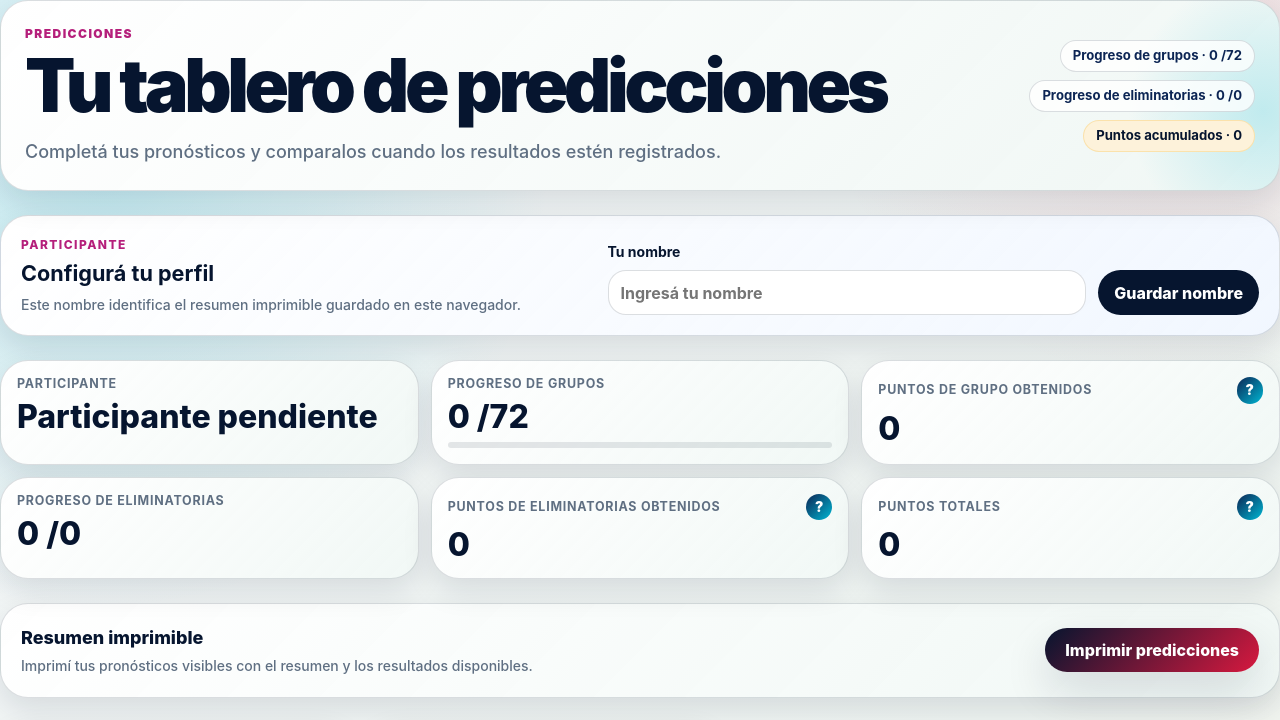
Scenario: PredictionFixture › captures and saves the user name in localStorage
The width and height of the screenshot is (1280, 720).
Type "  Yorch  " into the field labelled "Tu nombre" at (847, 293), box left=608, top=270, right=1086, bottom=315
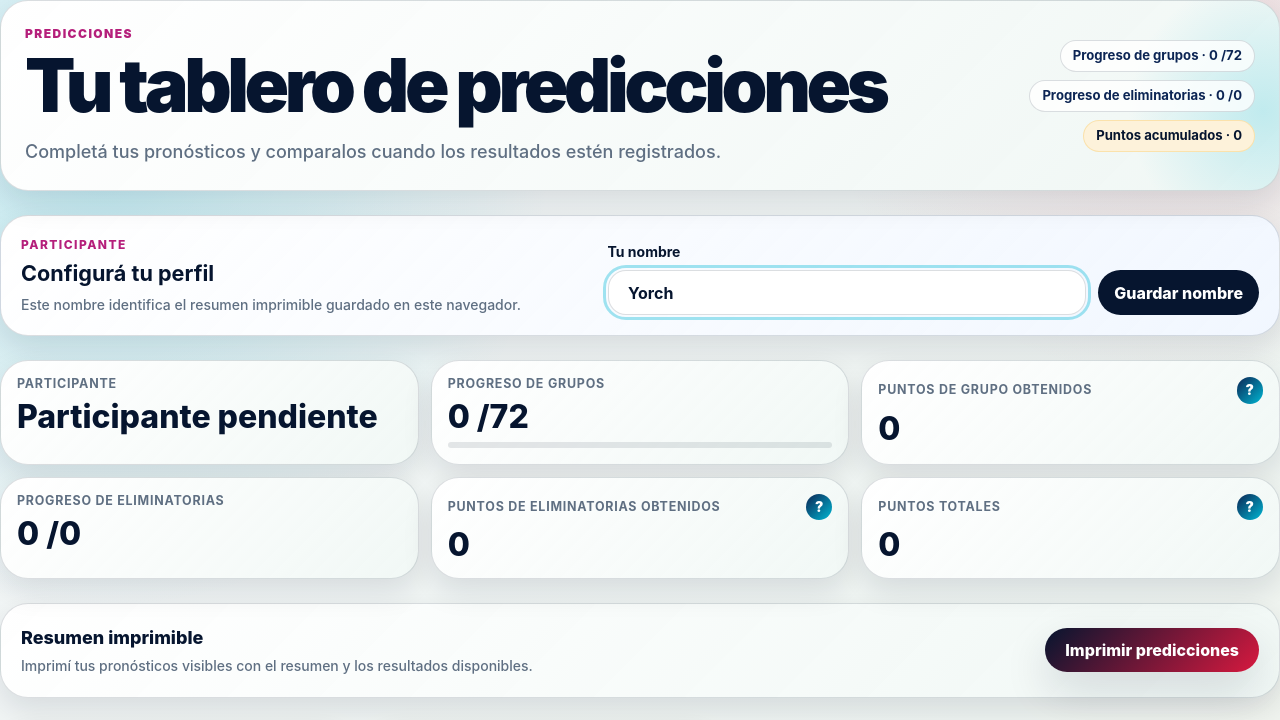
Click the button "Guardar nombre" at (1179, 293), box left=1098, top=270, right=1259, bottom=315
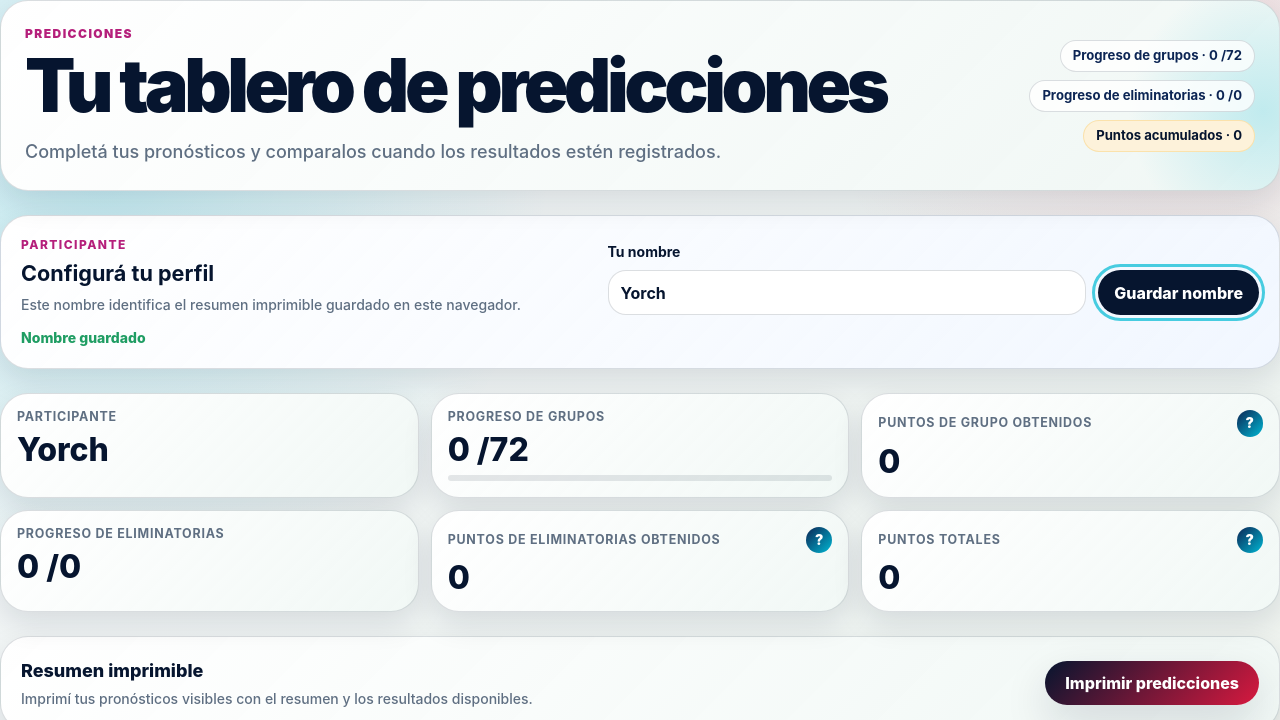
Now the text "Nombre guardado" is shown, box left=21, top=329, right=146, bottom=346
Now the element named "Resumen de predicciones" shows "Yorch", box left=17, top=430, right=109, bottom=469
Now the text "Yorch" is shown, box left=17, top=430, right=109, bottom=469
